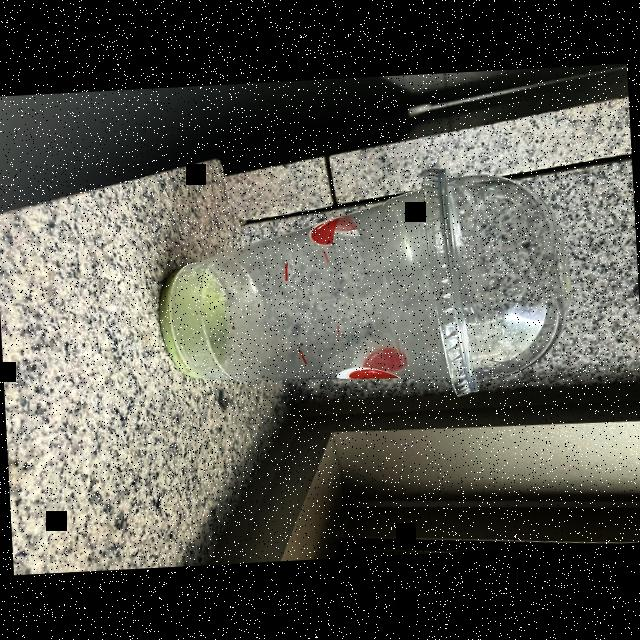plastic_cup: (148, 162, 576, 414)
plastic_cup_lid: (420, 156, 574, 404)
